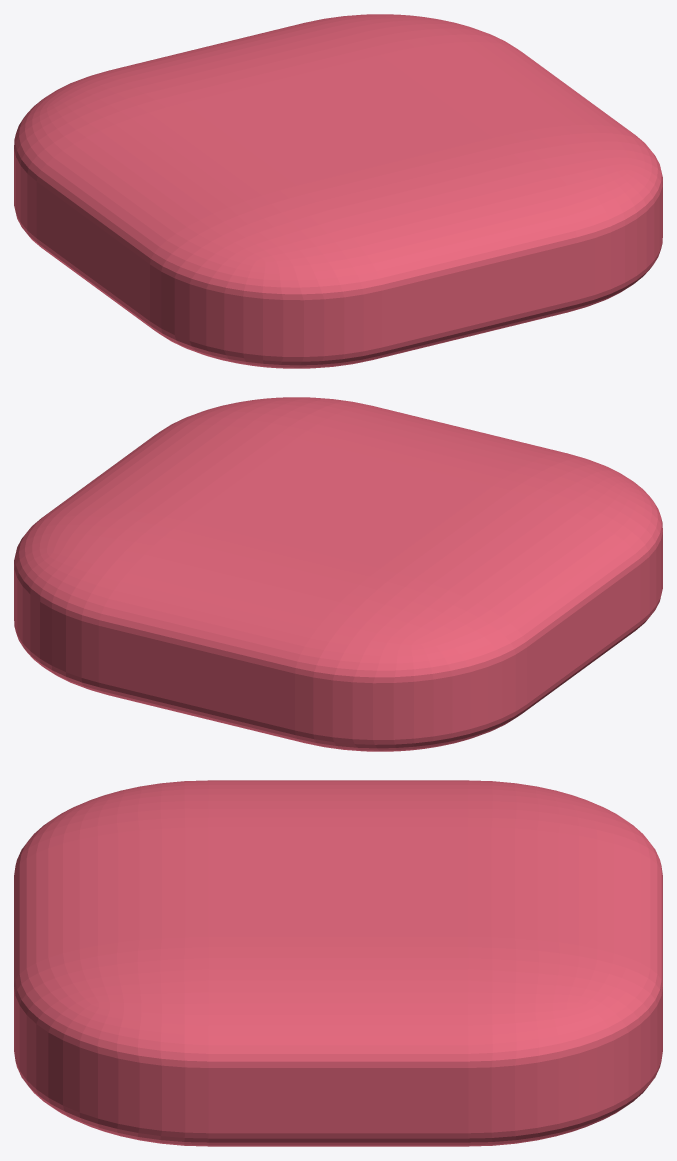
Rendered from Gingiva.fbx.
3 views of the same model, one above another, from view 1: azimuth 30°, elevation 25°; view 2: azimuth 150°, elevation 25°; view 3: azimuth 270°, elevation 25° (orthographic). The views are drawn at different scales.
Visible parts, largest first — view 1: Gingiva; view 2: Gingiva; view 3: Gingiva.
Part boxes in pixels (box(x1,y1,x2,y2)): Gingiva: box(14, 14, 662, 368); Gingiva: box(14, 397, 662, 751); Gingiva: box(14, 780, 662, 1146).
Bounding box in the file's own units: 226 × 62.54 × 226.
